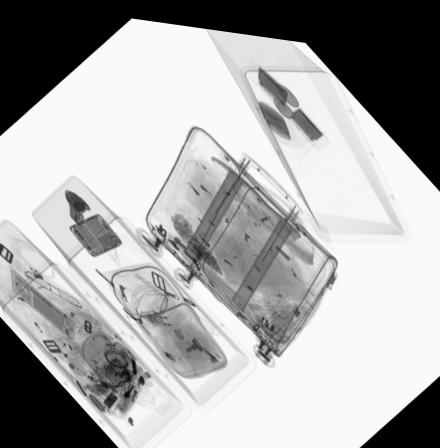Lighter: (130, 365, 151, 375)
